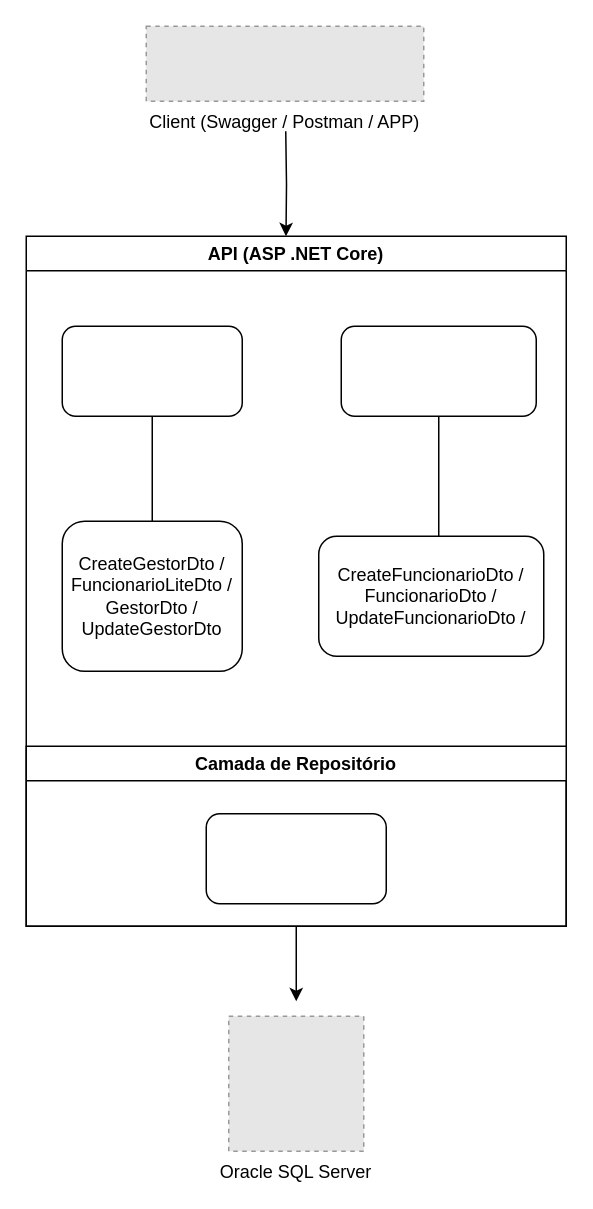
The diagram is 593 pixels wide and 1209 high, and some of its shapes have lost their labels. Grey dashed boxes stand in for pictures. Here are the shapes that lost their labels. From the top down, the centre of each, then its label:
point (151, 370): GestorController
point (438, 370): FuncionarioController
point (295, 858): ApplicationDbContext
